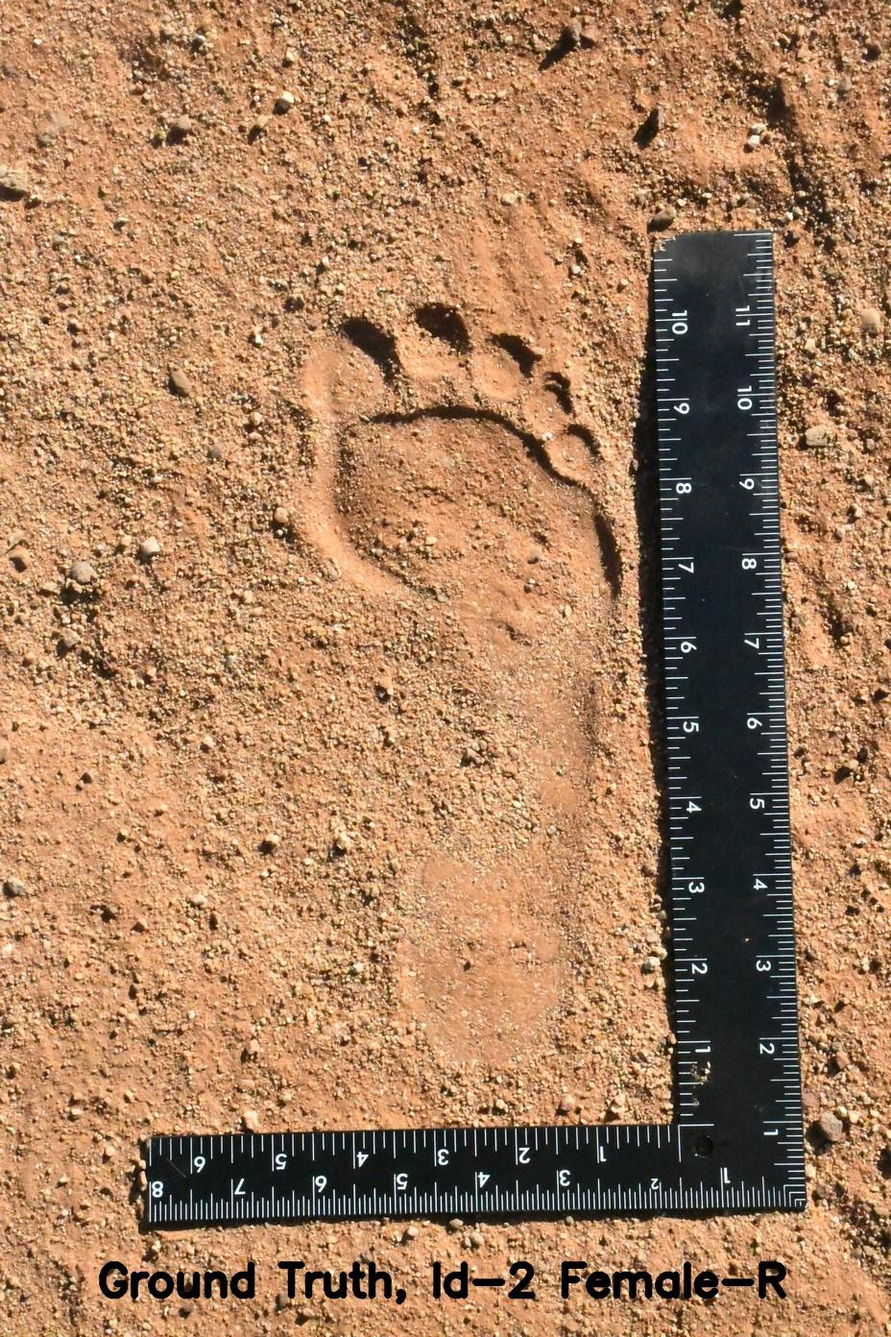human_footprint: (286, 302, 647, 1076)
